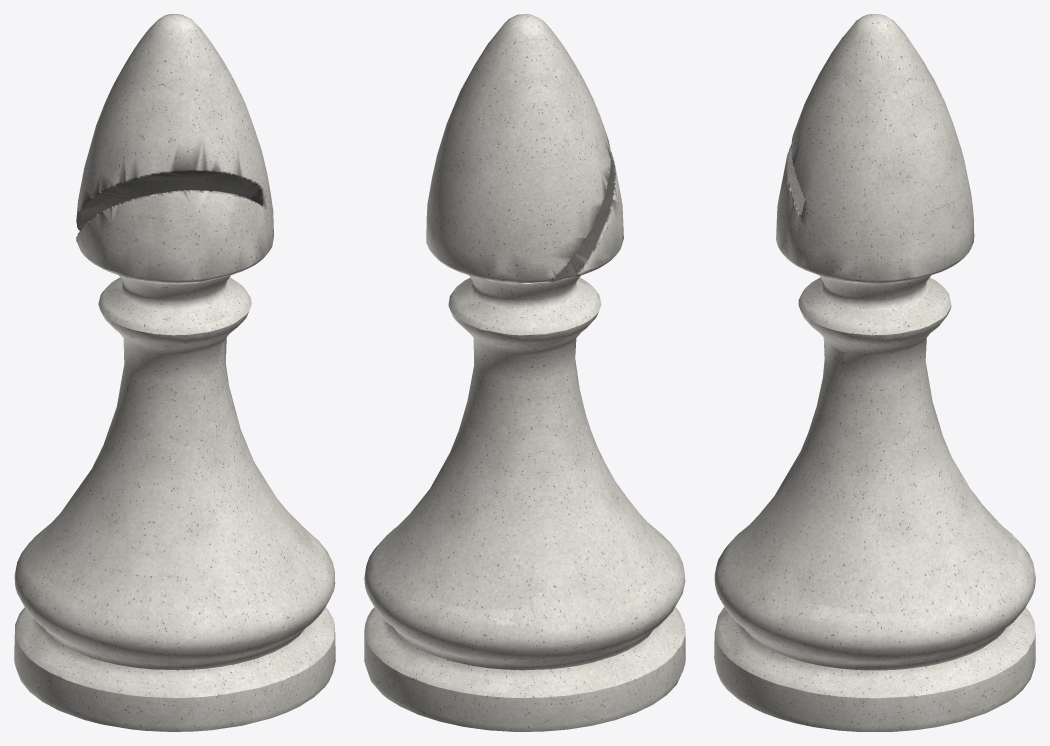
The model's file is bishop-white.glb.
3 views of the same model, side by side, from view 1: azimuth 30°, elevation 25°; view 2: azimuth 150°, elevation 25°; view 3: azimuth 270°, elevation 25° (orthographic).
Visible parts, largest first — view 1: strelec_bila; view 2: strelec_bila; view 3: strelec_bila.
Boxes of the visible parts, bbox=[...] form: strelec_bila: bbox=[14, 14, 335, 731]; strelec_bila: bbox=[364, 14, 685, 731]; strelec_bila: bbox=[714, 14, 1035, 731].
Bounding box in the file's own units: 0.584 × 1.32 × 0.5836.
1 material, 1 textured.
